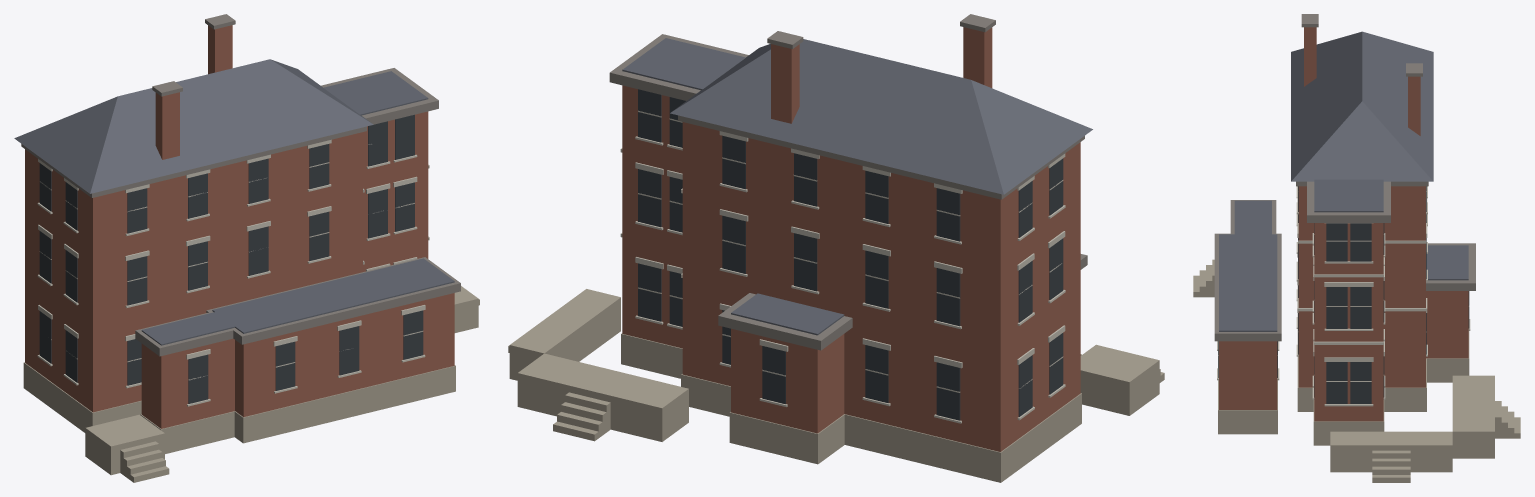
The model's file is house_2100_calumet__draft_1904.glb.
3 renders of one model, left to right at view 1: azimuth 30°, elevation 25°; view 2: azimuth 150°, elevation 25°; view 3: azimuth 270°, elevation 25°, orthographic. The views are drawn at different scales.
Parts seen in each view (by area): view 1: house_2100_calumet__draft_1904; view 2: house_2100_calumet__draft_1904; view 3: house_2100_calumet__draft_1904.
Boxes of the visible parts, x1,y1,x2,y2 form: house_2100_calumet__draft_1904: (14,14,479,482); house_2100_calumet__draft_1904: (508,14,1164,482); house_2100_calumet__draft_1904: (1193,14,1520,482).
Bounding box in the file's own units: 22.95 × 15.9 × 15.4.
